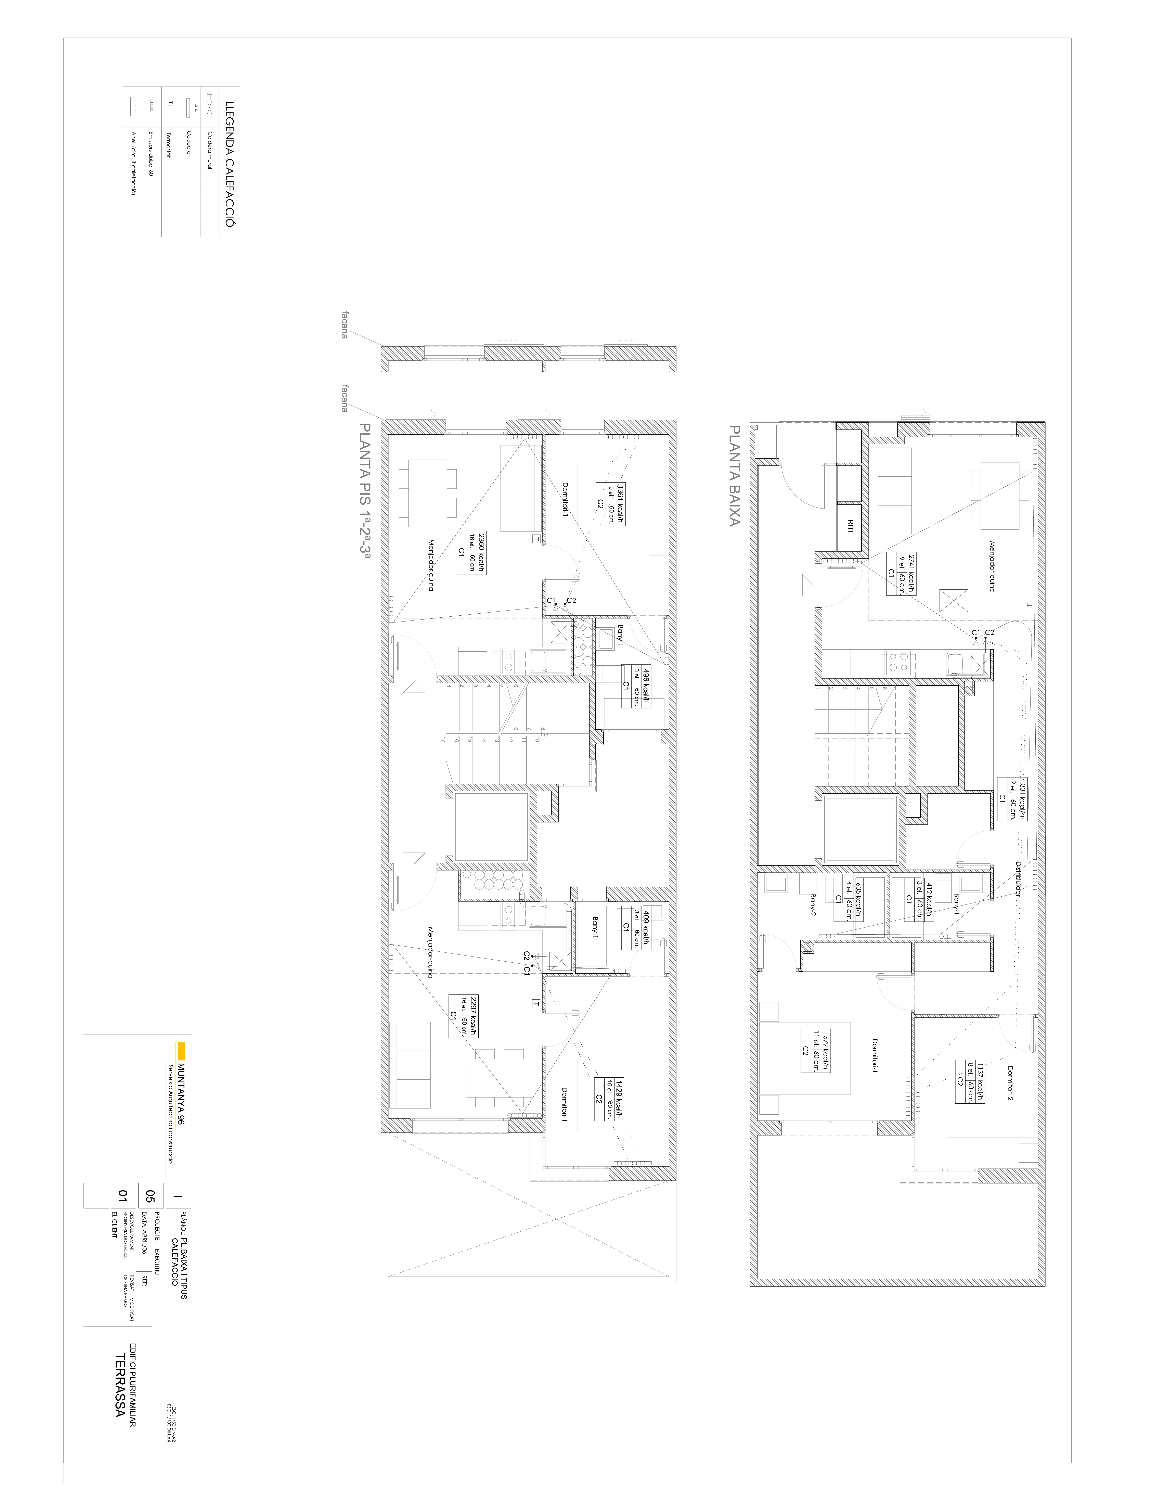door: (995, 1012, 1036, 1052), (954, 827, 993, 867)
